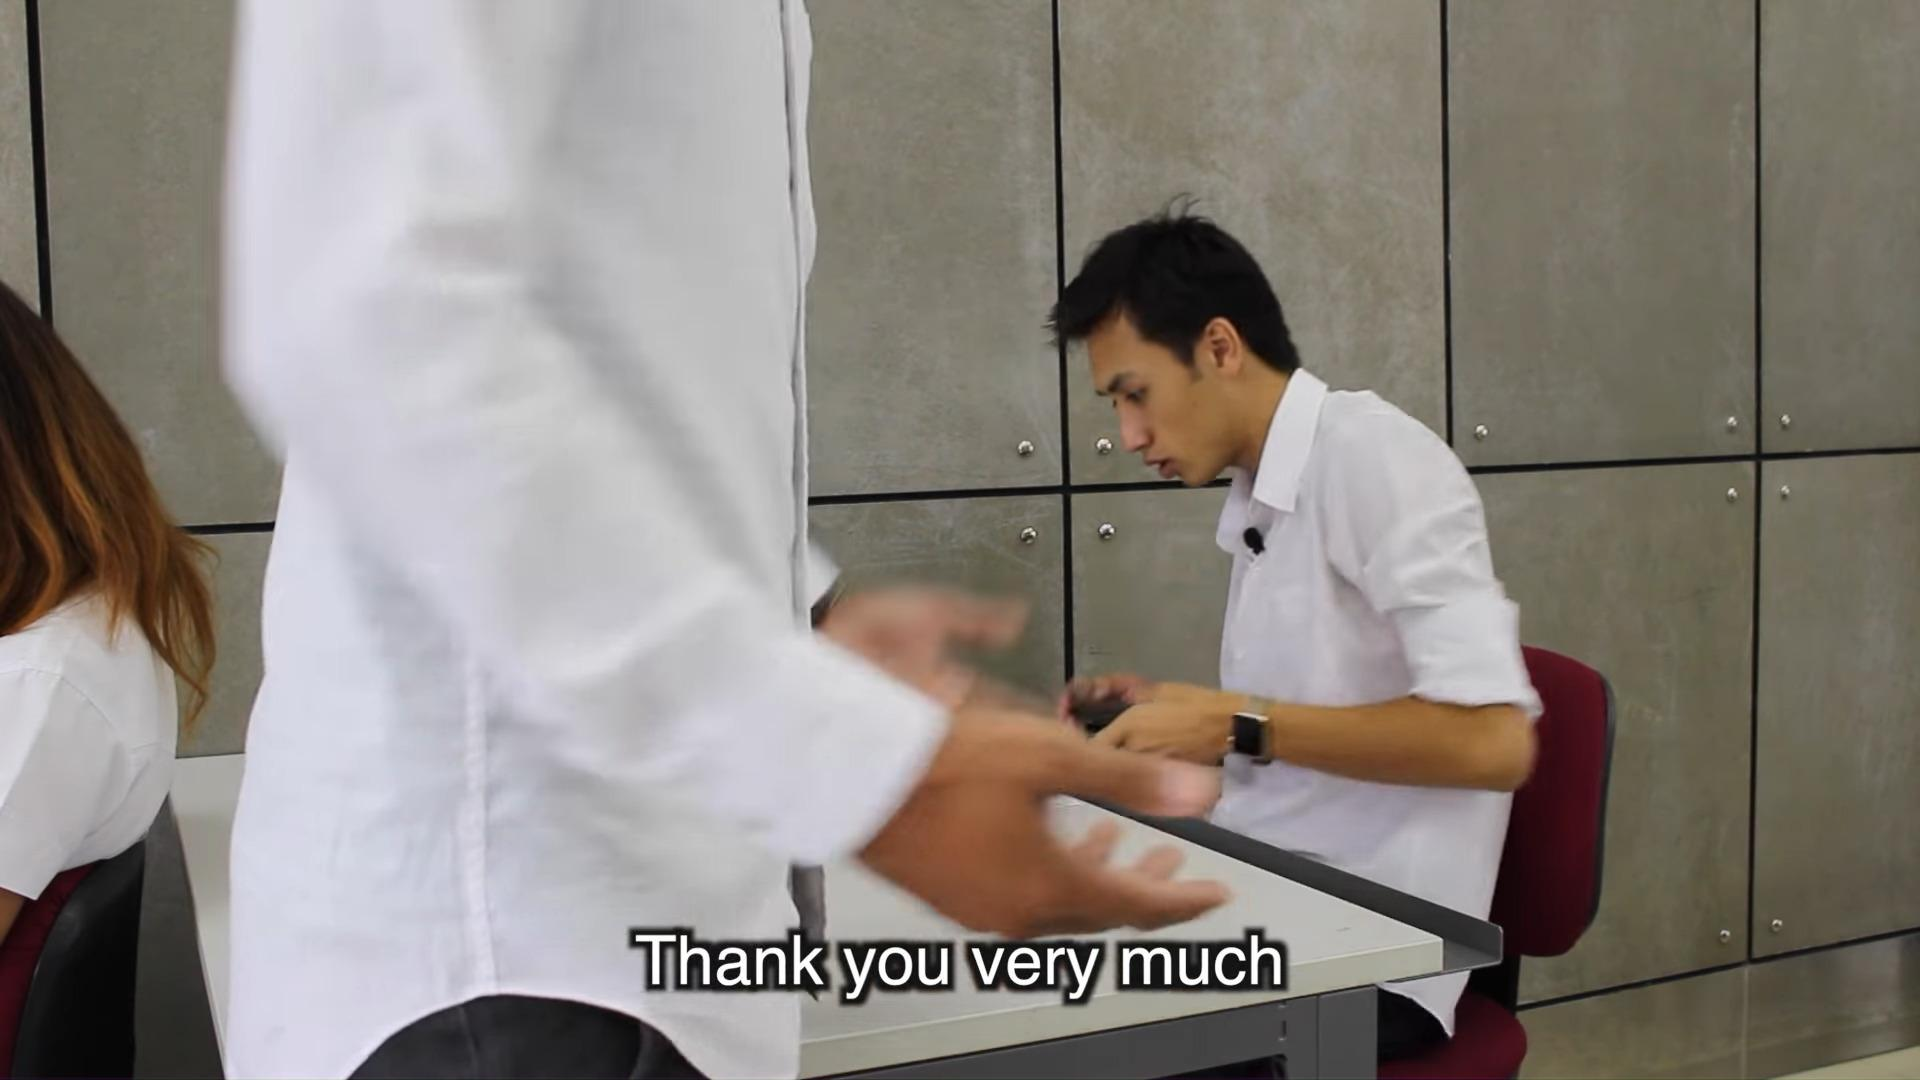good: (1023, 170, 1581, 907)
